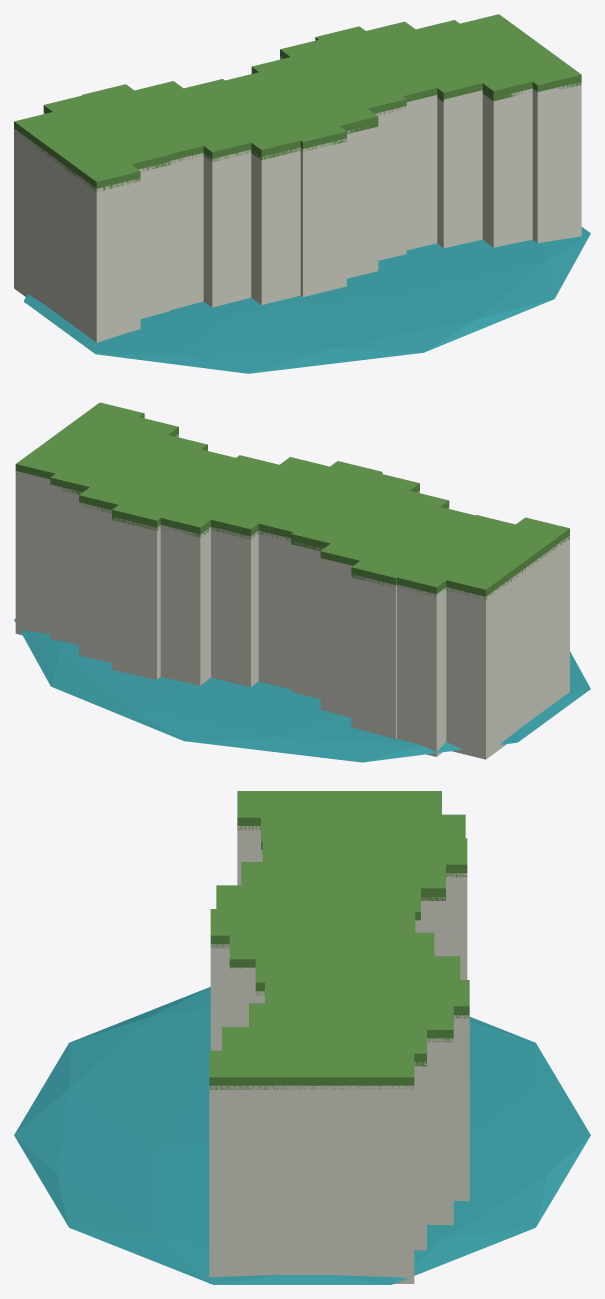
Rendered from FEATURE_CLIFFS_DOVER.fbx.
The picture shows the model from 3 angles, top to bottom: view 1: azimuth 30°, elevation 25°; view 2: azimuth 150°, elevation 25°; view 3: azimuth 270°, elevation 25°; orthographic projection. The views are drawn at different scales.
Parts seen in each view (by area): view 1: Channel, Chalk_buttress, Chalk_buttress.011, Chalk_buttress.010, Chalk_buttress.004, Chalk_buttress.003, Chalk_buttress.005, Chalk_buttress.009, Chalk_buttress.002, Chalk_buttress.008, Turf_cap, Chalk_buttress.006 (+13 smaller); view 2: Channel, Chalk_buttress, Chalk_buttress.001, Chalk_buttress.007, Chalk_buttress.008, Chalk_buttress.006, Chalk_buttress.002, Chalk_buttress.011, Chalk_buttress.009, Chalk_buttress.005, Chalk_buttress.003, Turf_cap (+13 smaller); view 3: Channel, Chalk_buttress.011, Turf_cap.011, Turf_cap, Turf_cap.008, Turf_cap.001, Turf_cap.004, Turf_cap.009, Turf_cap.006, Turf_cap.002, Turf_cap.010, Turf_cap.005 (+10 smaller).
Part boxes in pixels (x1,y1,x2,y2): Channel: (23,227,590,373); Chalk_buttress: (14,128,140,342); Chalk_buttress.011: (532,82,581,243); Chalk_buttress.010: (482,88,532,247); Chalk_buttress.004: (251,147,300,305); Chalk_buttress.003: (203,150,251,307); Chalk_buttress.005: (300,138,346,297); Chalk_buttress.009: (437,90,482,248); Chalk_buttress.002: (170,153,203,310); Chalk_buttress.008: (406,95,437,250); Turf_cap: (14,111,140,191); Chalk_buttress.006: (347,126,378,278); Channel: (14,619,590,762); Chalk_buttress: (446,535,569,759); Chalk_buttress.001: (397,584,446,756); Chalk_buttress.007: (160,525,210,685); Chalk_buttress.008: (112,517,160,679); Chalk_buttress.006: (211,526,258,687); Chalk_buttress.002: (351,574,396,738); Chalk_buttress.011: (15,471,50,635); Chalk_buttress.009: (79,502,111,662); Chalk_buttress.005: (258,530,290,689); Chalk_buttress.003: (320,507,449,717); Turf_cap: (442,517,569,599); Channel: (14,987,590,1284); Chalk_buttress.011: (209,1085,414,1283); Turf_cap.011: (209,1050,414,1089); Turf_cap: (237,791,441,830); Turf_cap.008: (265,980,469,1018); Turf_cap.001: (261,814,465,853); Turf_cap.004: (216,885,420,920); Turf_cap.009: (249,1003,453,1042); Turf_cap.006: (229,932,434,970); Turf_cap.002: (262,838,467,877); Turf_cap.010: (222,1027,426,1066); Turf_cap.005: (210,909,415,948).
Size of the model in its own units: 152 by 50.2 by 124.
